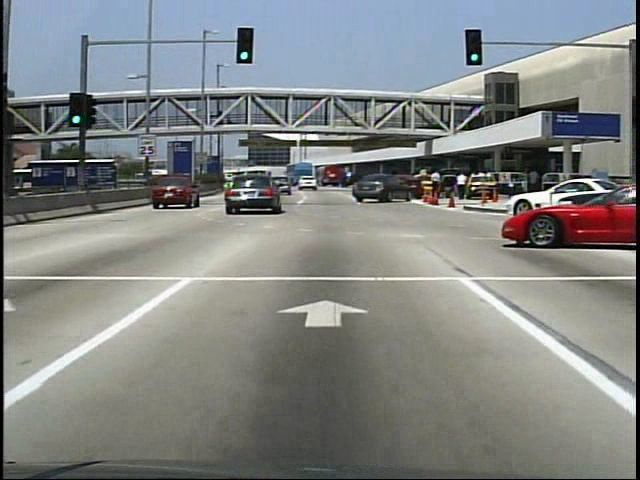person: (428, 169, 445, 205), (504, 174, 520, 208), (455, 172, 470, 202), (527, 171, 540, 194), (216, 111, 225, 129)
